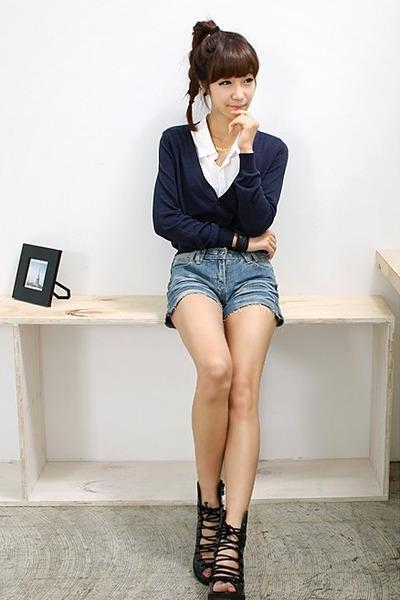Shorts: (162, 243, 285, 329)
short sleeve shirt: (186, 118, 257, 199)
sweater: (152, 115, 292, 252)
